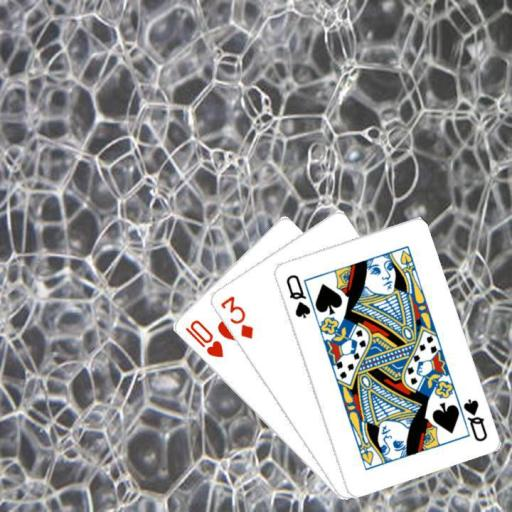10H: (181, 317, 225, 359)
3D: (216, 292, 255, 341)
QS: (283, 271, 312, 320), (460, 395, 489, 443)
